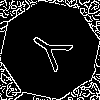Y: (25, 25, 82, 78)
